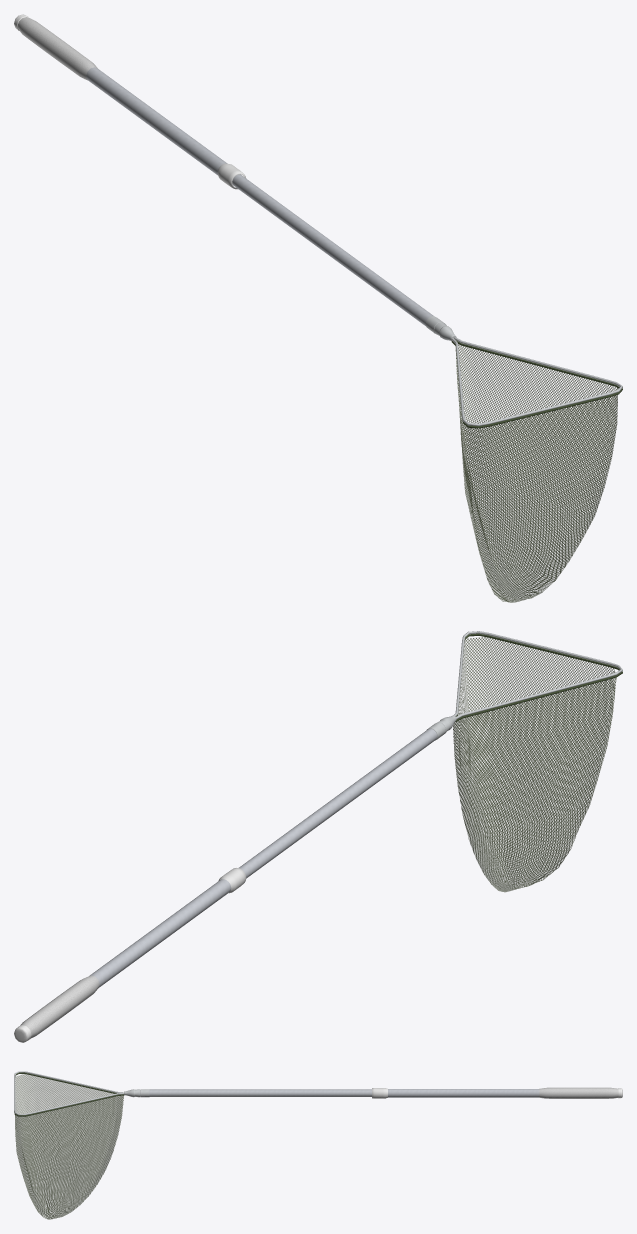
Rendered from net_deep.lod2.glb.
3 views of the same model, one above another, from view 1: azimuth 30°, elevation 25°; view 2: azimuth 150°, elevation 25°; view 3: azimuth 270°, elevation 25° (orthographic). The views are drawn at different scales.
Visible parts, largest first — view 1: Bag, Handle, Handle_Inner, Frame; view 2: Bag, Handle, Handle_Inner, Frame; view 3: Bag, Handle, Handle_Inner, Frame.
Boxes of the visible parts, x1,y1,x2,y2 form: Bag: (455,344,617,602); Handle: (14,14,246,189); Handle_Inner: (232,174,443,333); Frame: (434,322,622,428); Bag: (453,637,616,892); Handle: (14,868,246,1042); Handle_Inner: (239,722,445,878); Frame: (438,631,622,733); Bag: (15,1074,123,1219); Handle: (372,1087,622,1098); Handle_Inner: (140,1089,371,1097); Frame: (14,1071,140,1116).
Size of the model in its own units: 0.3195 by 0.4433 by 1.89.
7 materials, 7 textured.
